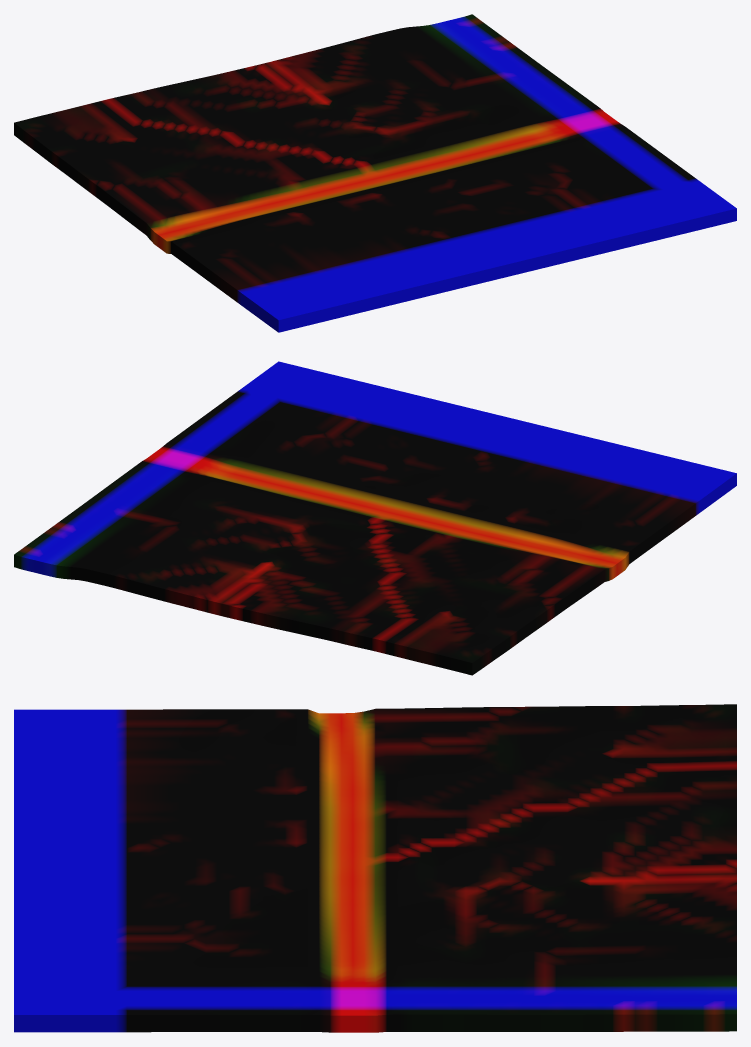
File: Terrain_02_04.fbx
3 views of the same model, one above another, from view 1: azimuth 30°, elevation 25°; view 2: azimuth 150°, elevation 25°; view 3: azimuth 270°, elevation 25° (orthographic). The views are drawn at different scales.
Visible parts, largest first — view 1: Terrain_02_04_LOD0; view 2: Terrain_02_04_LOD0; view 3: Terrain_02_04_LOD0.
Boxes of the visible parts, x1,y1,x2,y2 form: Terrain_02_04_LOD0: (14, 14, 736, 332); Terrain_02_04_LOD0: (14, 361, 736, 675); Terrain_02_04_LOD0: (14, 704, 736, 1032).
Size of what is drawn, in the model's own units: 384 by 15.7 by 384.
